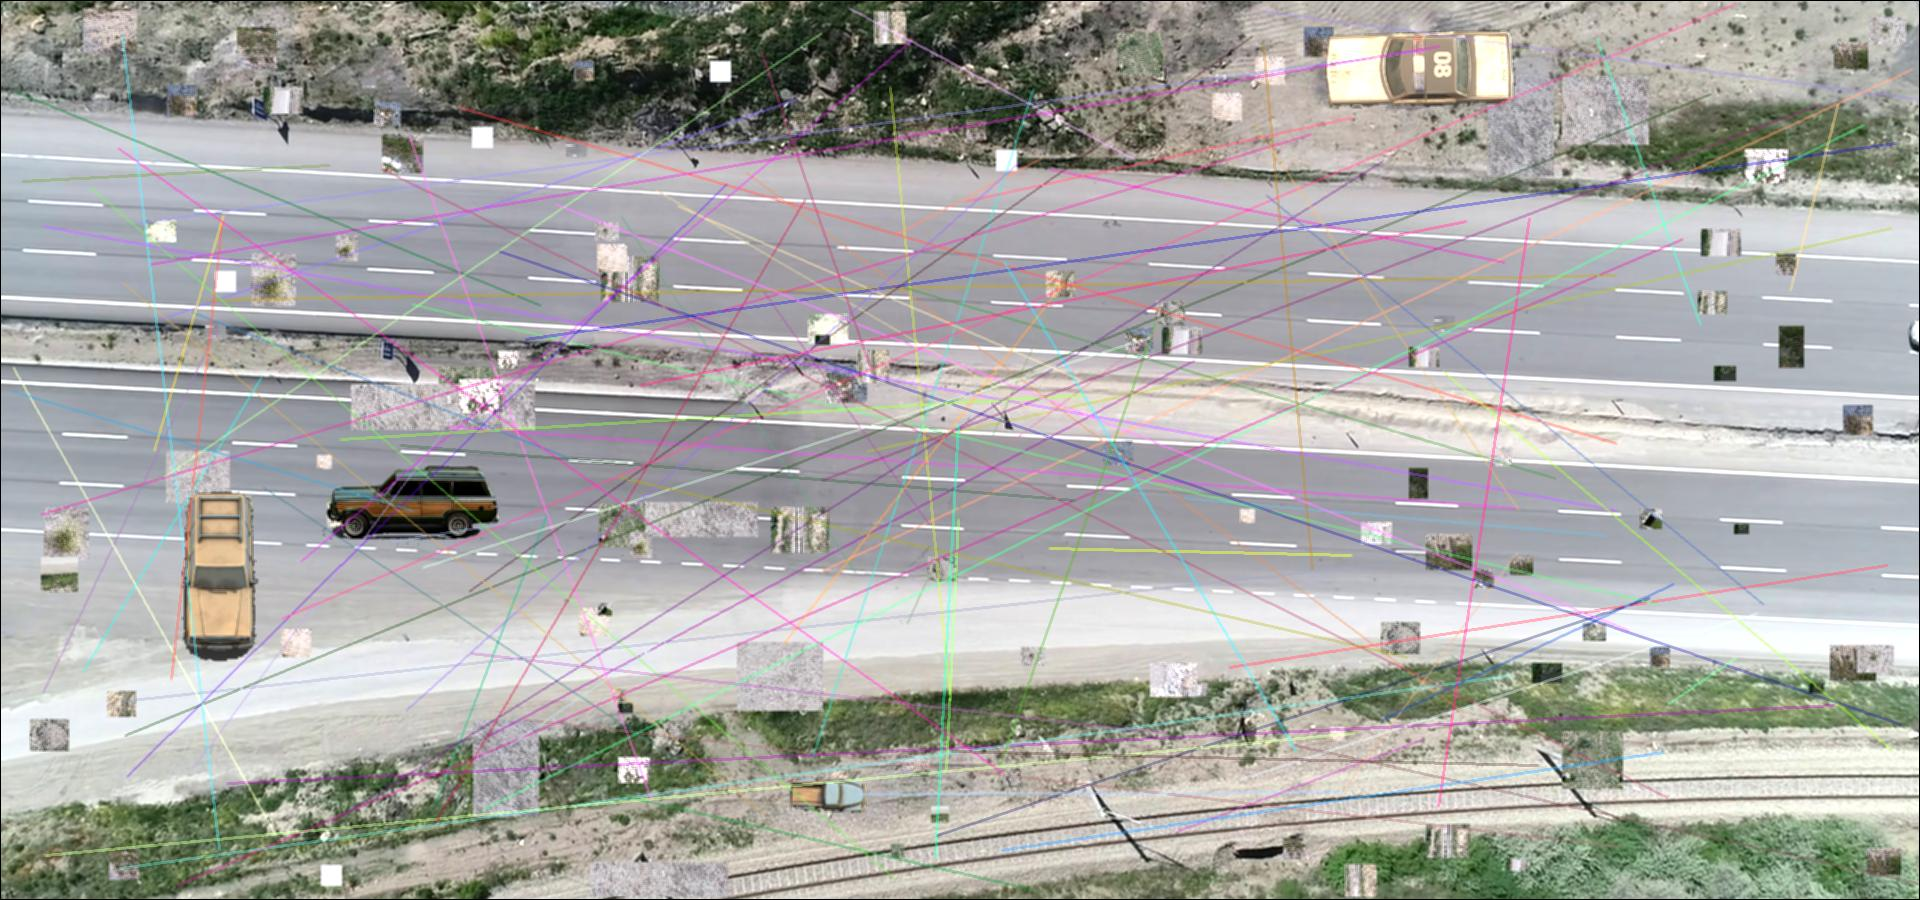arac: (1320, 29, 1516, 110), (321, 464, 502, 545), (179, 489, 263, 661), (789, 774, 867, 816)
